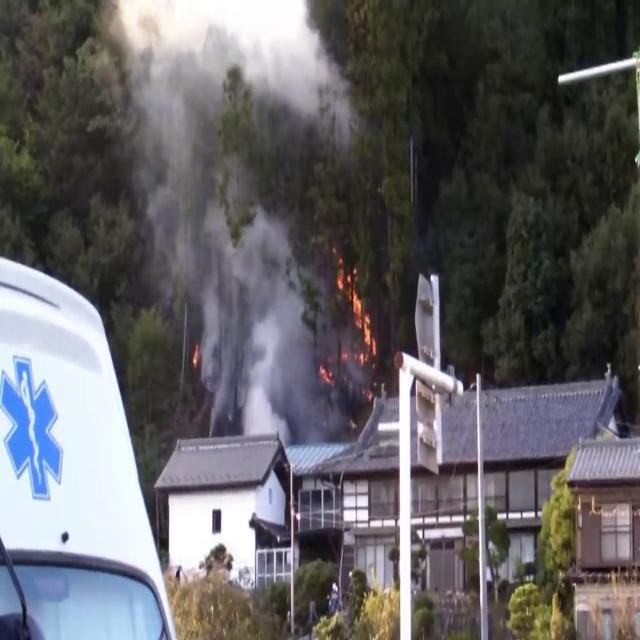Fire: (337, 262, 380, 372)
Smoke: (121, 0, 361, 443)
